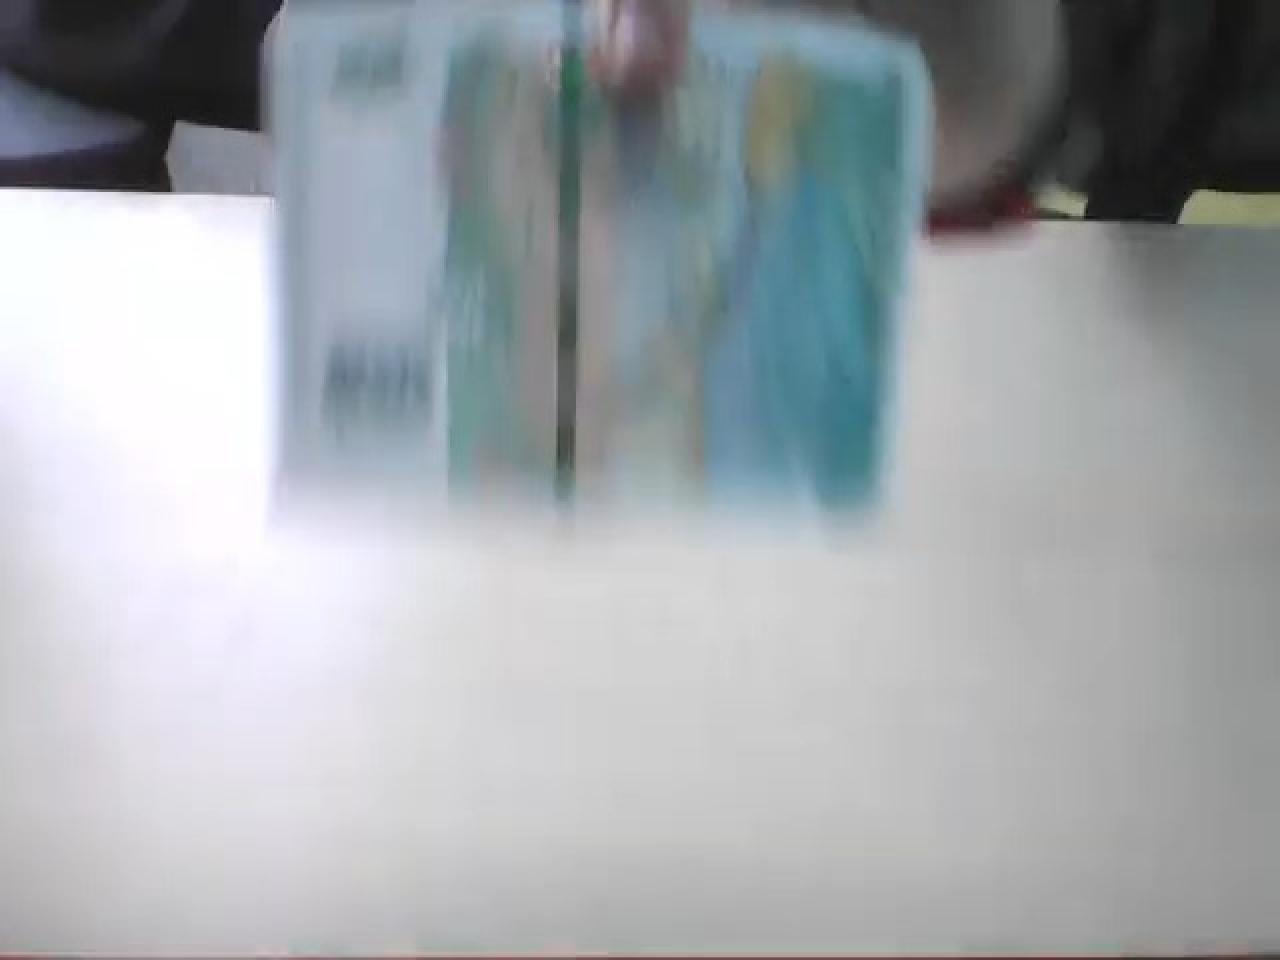100leva: (264, 0, 934, 538)
